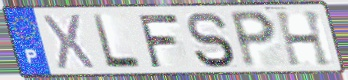F: (135, 13, 181, 70)
H: (273, 9, 335, 68)
L: (89, 13, 144, 71)
P: (227, 9, 279, 70)
S: (184, 10, 238, 70)
X: (40, 12, 98, 72)
